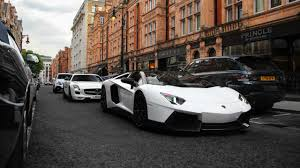Lamborghini: (111, 71, 229, 129)
